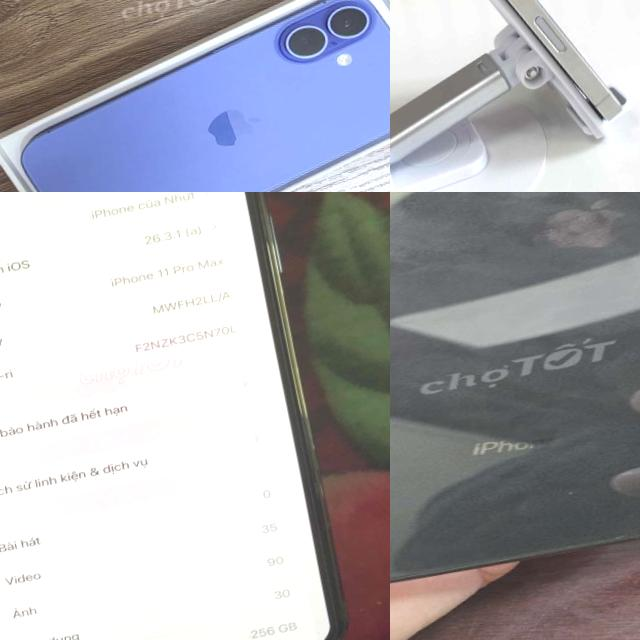gen_11: (0, 192, 369, 640)
gen_16: (22, 0, 390, 192), (390, 0, 640, 171)
gen_x_xs: (390, 192, 640, 582)
